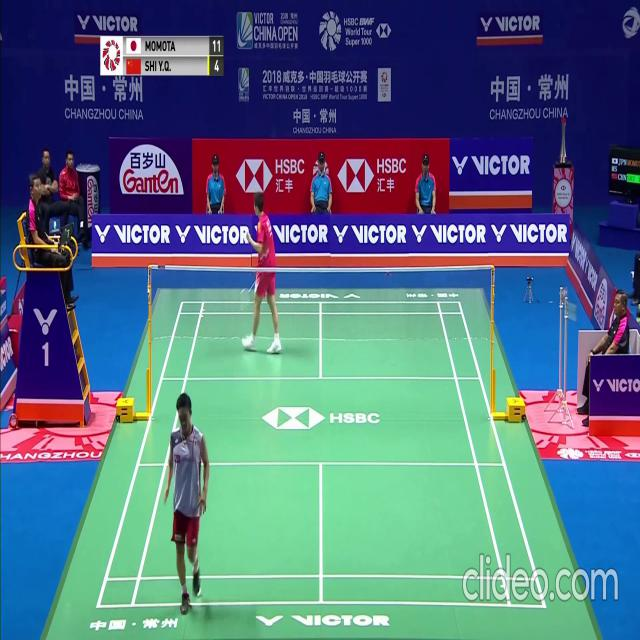Shuttlecock: (197, 589, 202, 596)
